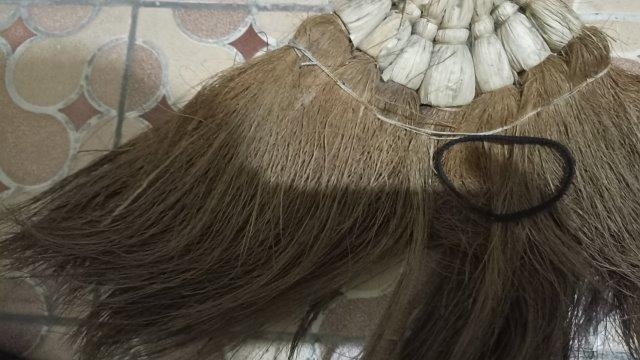karet: (434, 135, 573, 221)
